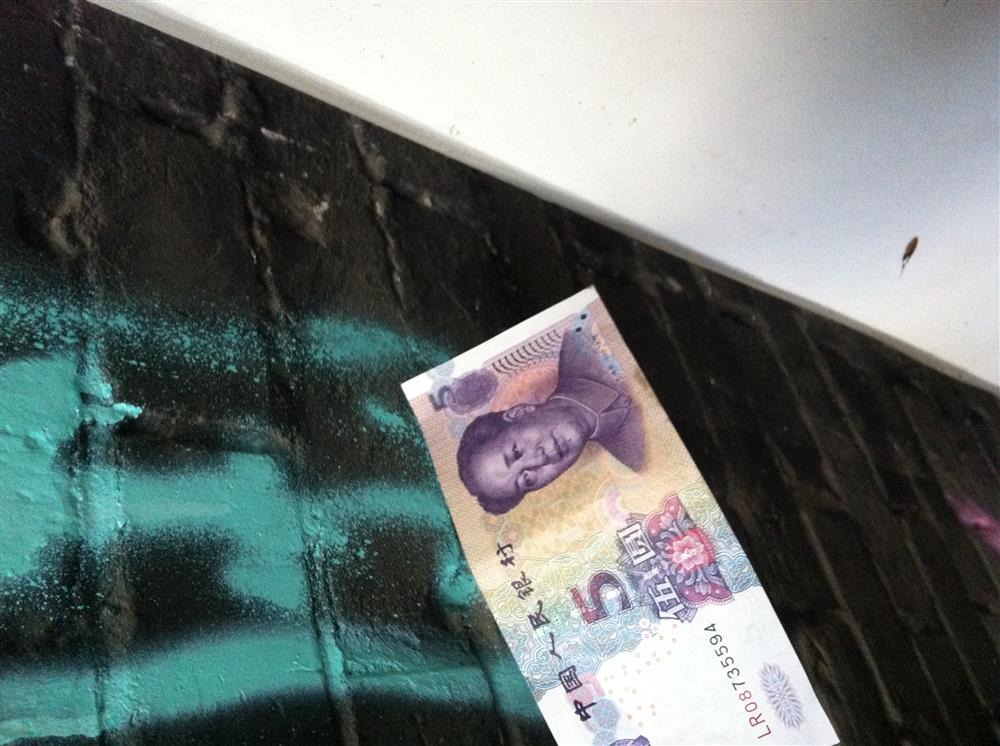5yuan: (397, 285, 842, 740)
